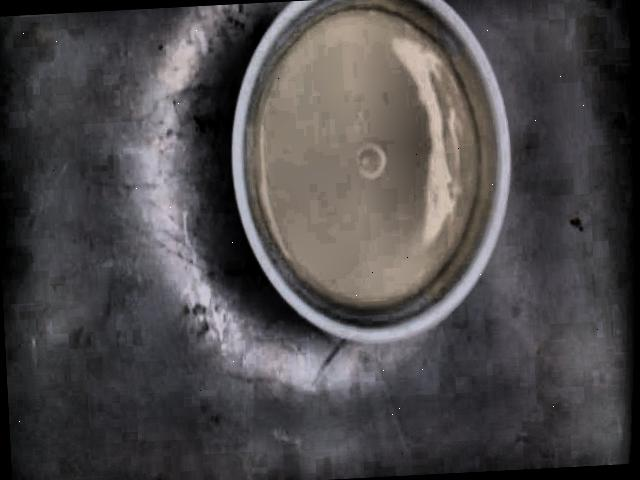Almennt: (228, 0, 513, 342)
